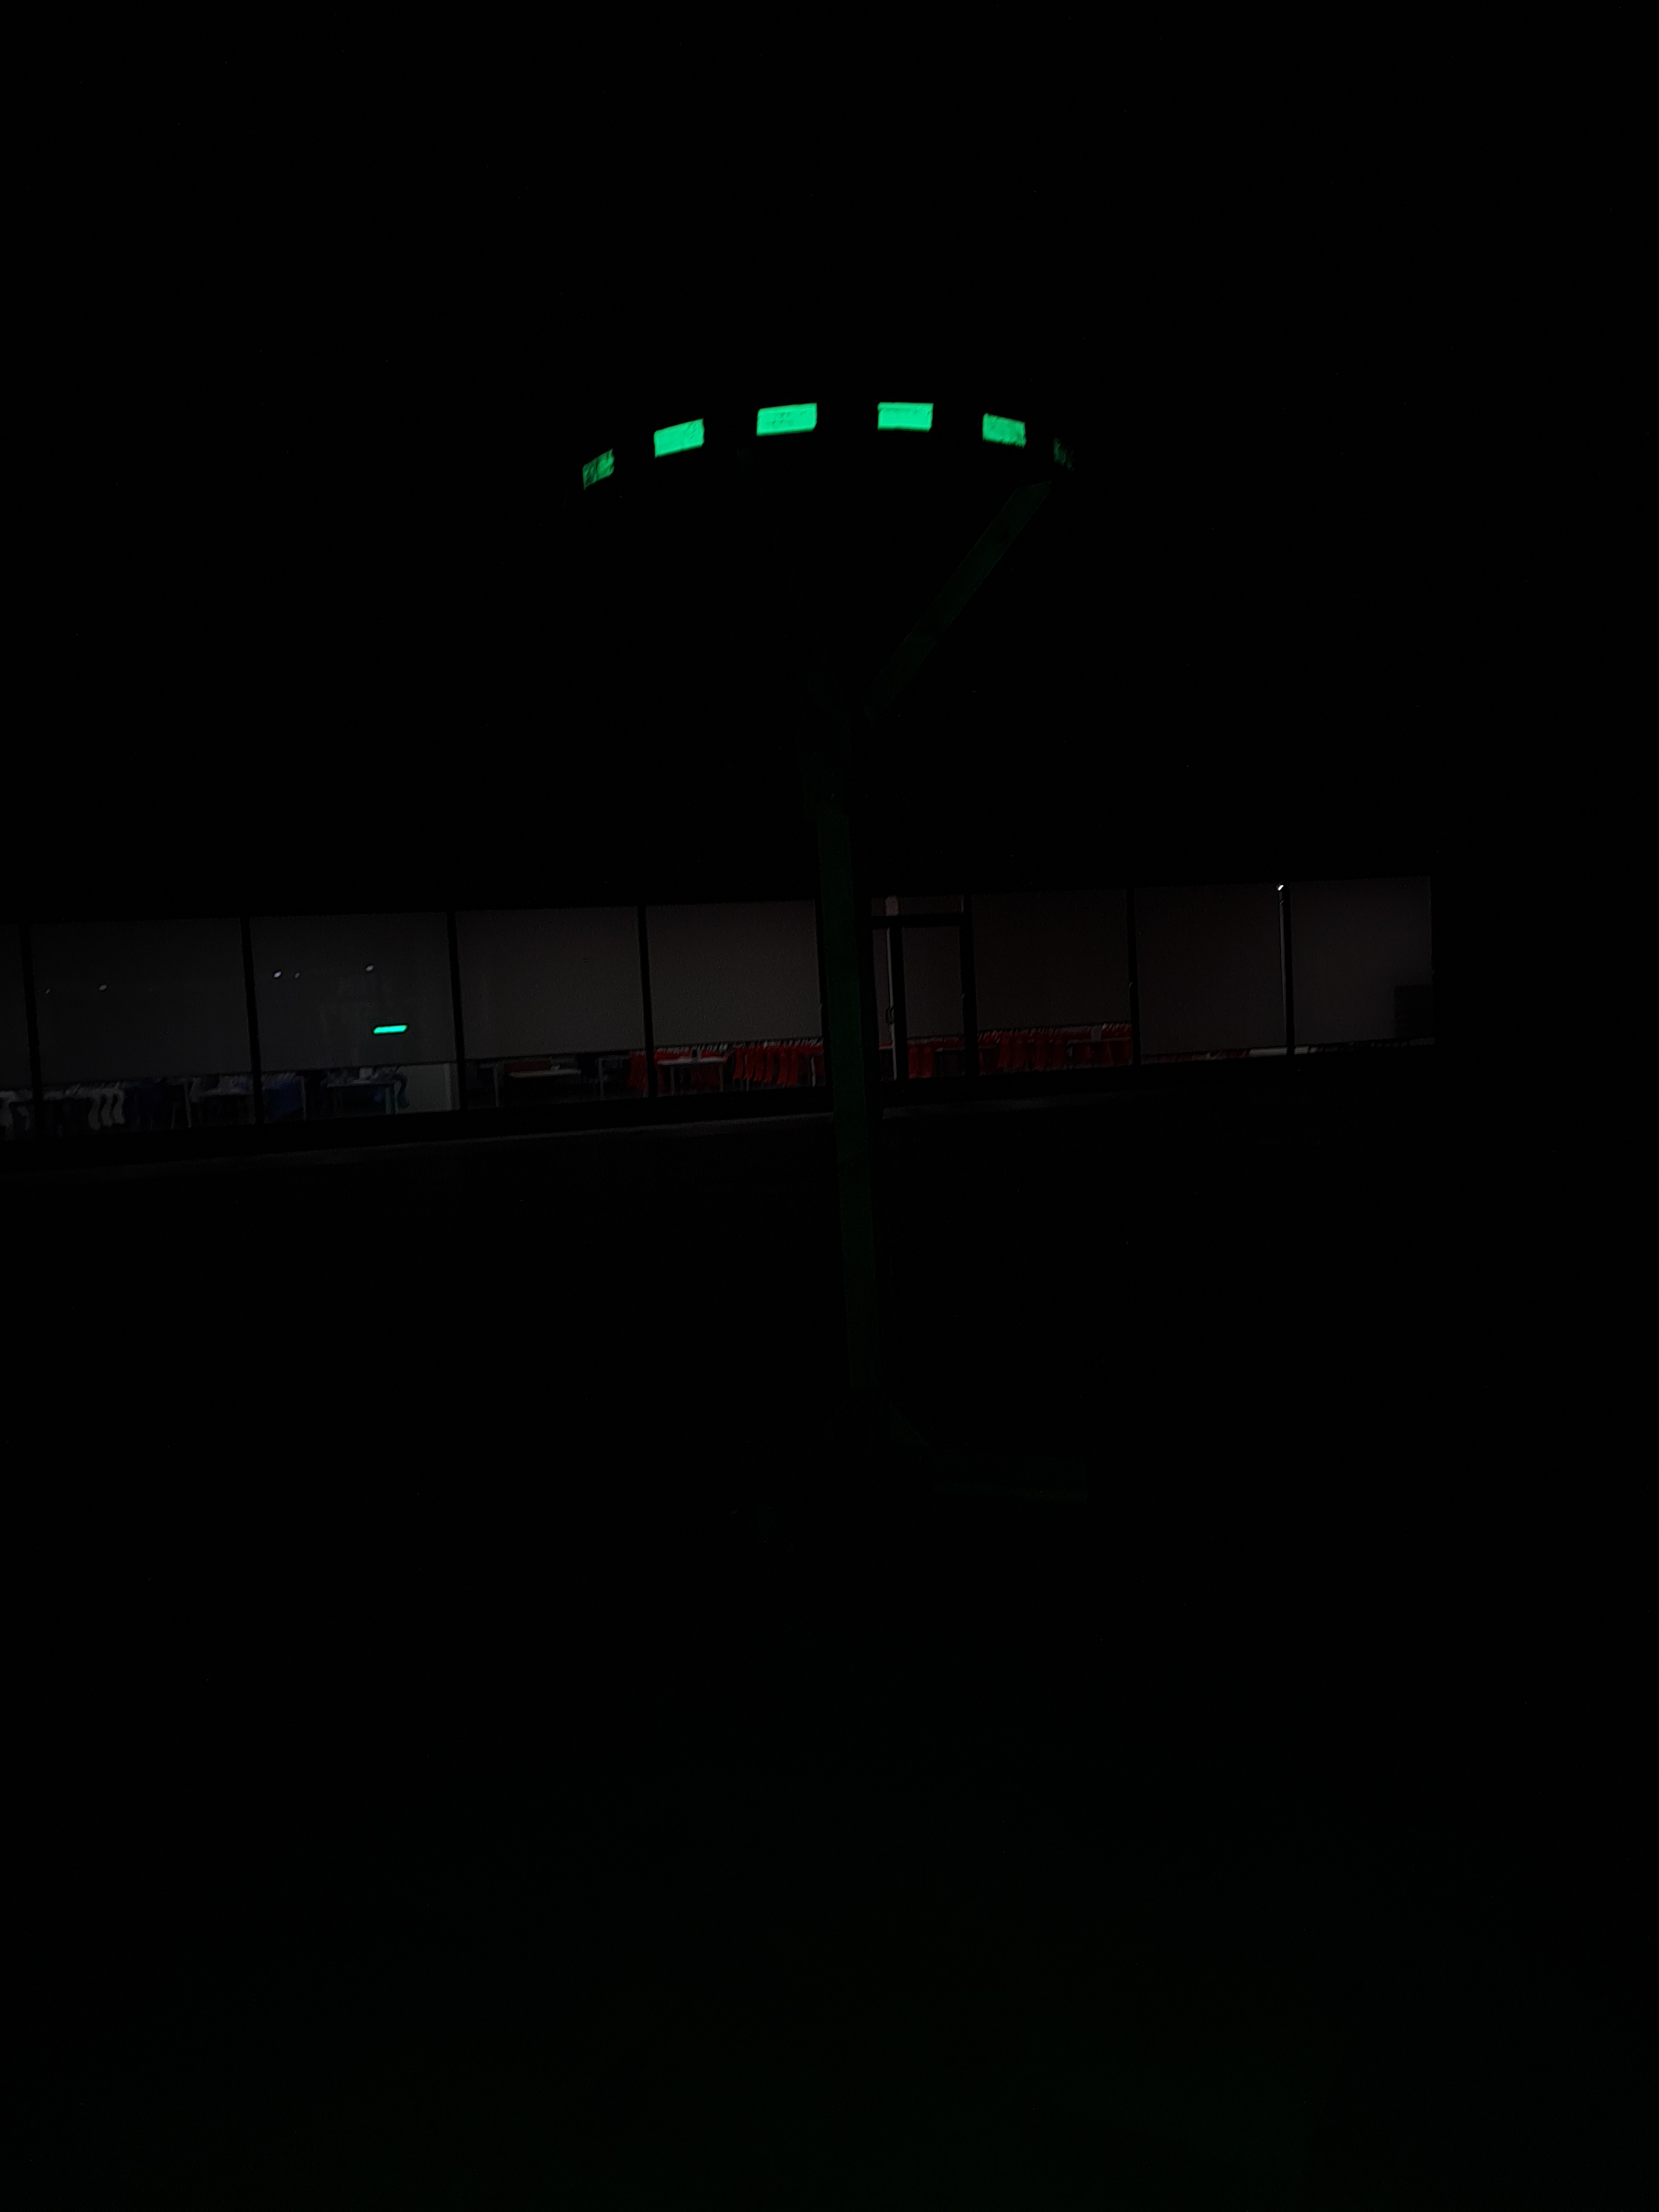hoop: (575, 390, 1033, 495)
